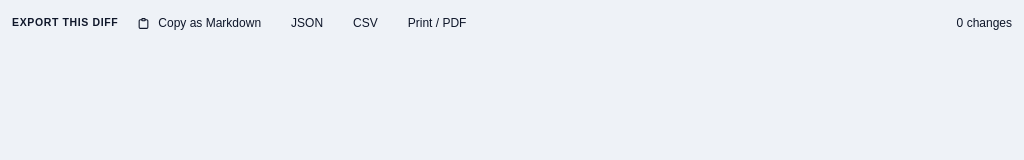
Test case: copying the diff › takes the refusal back when a later copy works
Step 1. Click the button "Copy as Markdown" → (199, 23), box 126,8 -> 272,38
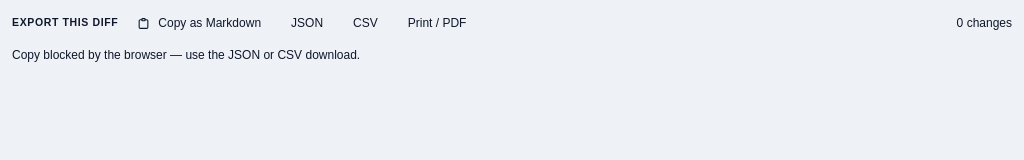
Step 2. Click the button "Copy as Markdown" → (199, 23), box 126,8 -> 272,38
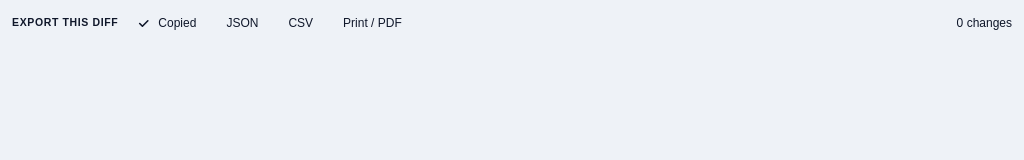
Now the text with class "export-bar__error" is gone
Now the button "Copied" is shown, box 126,8 -> 207,38
